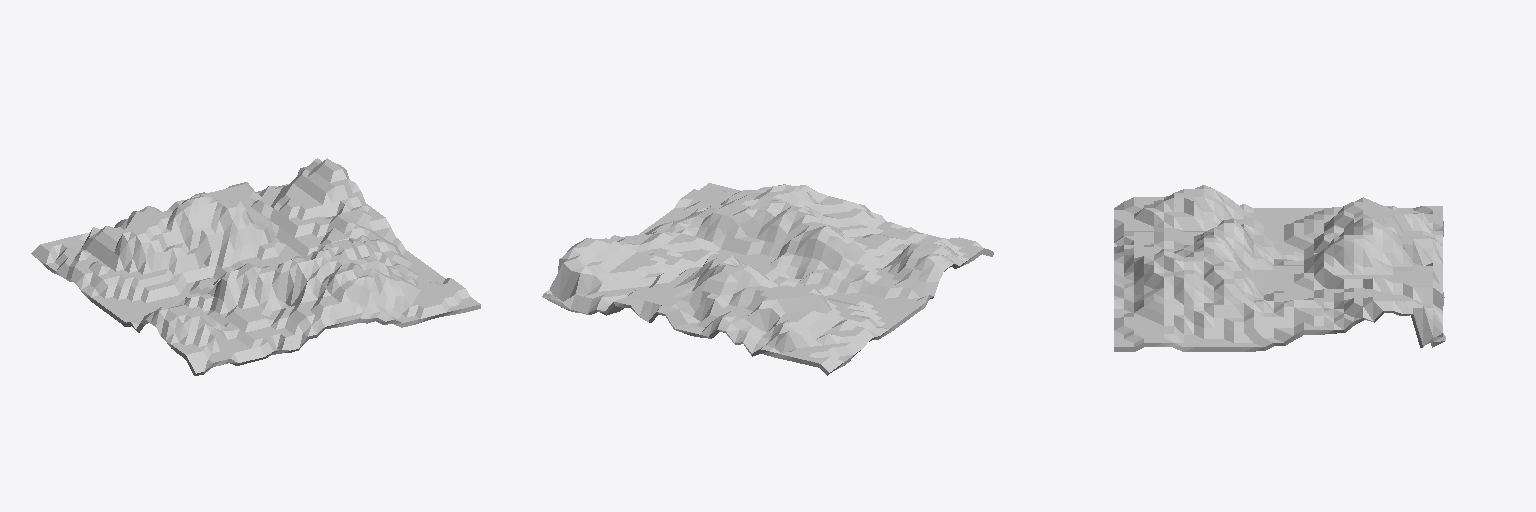
Rendered from ground2.obj.
3 renders of one model, left to right at view 1: azimuth 30°, elevation 25°; view 2: azimuth 150°, elevation 25°; view 3: azimuth 270°, elevation 25°, orthographic.
Parts seen in each view (by area): view 1: Plane; view 2: Plane; view 3: Plane.
Boxes of the visible parts, x1=… form: Plane: x1=31, y1=158, x2=480, y2=375; Plane: x1=542, y1=183, x2=993, y2=375; Plane: x1=1114, y1=185, x2=1445, y2=351.
Bounding box in the file's own units: 16.26 × 2.88 × 16.25.